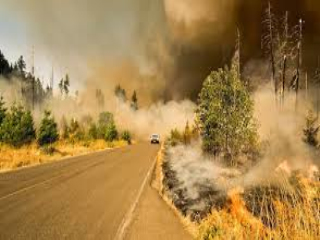smoke: (230, 93, 320, 195), (96, 92, 203, 138), (165, 144, 228, 202)
